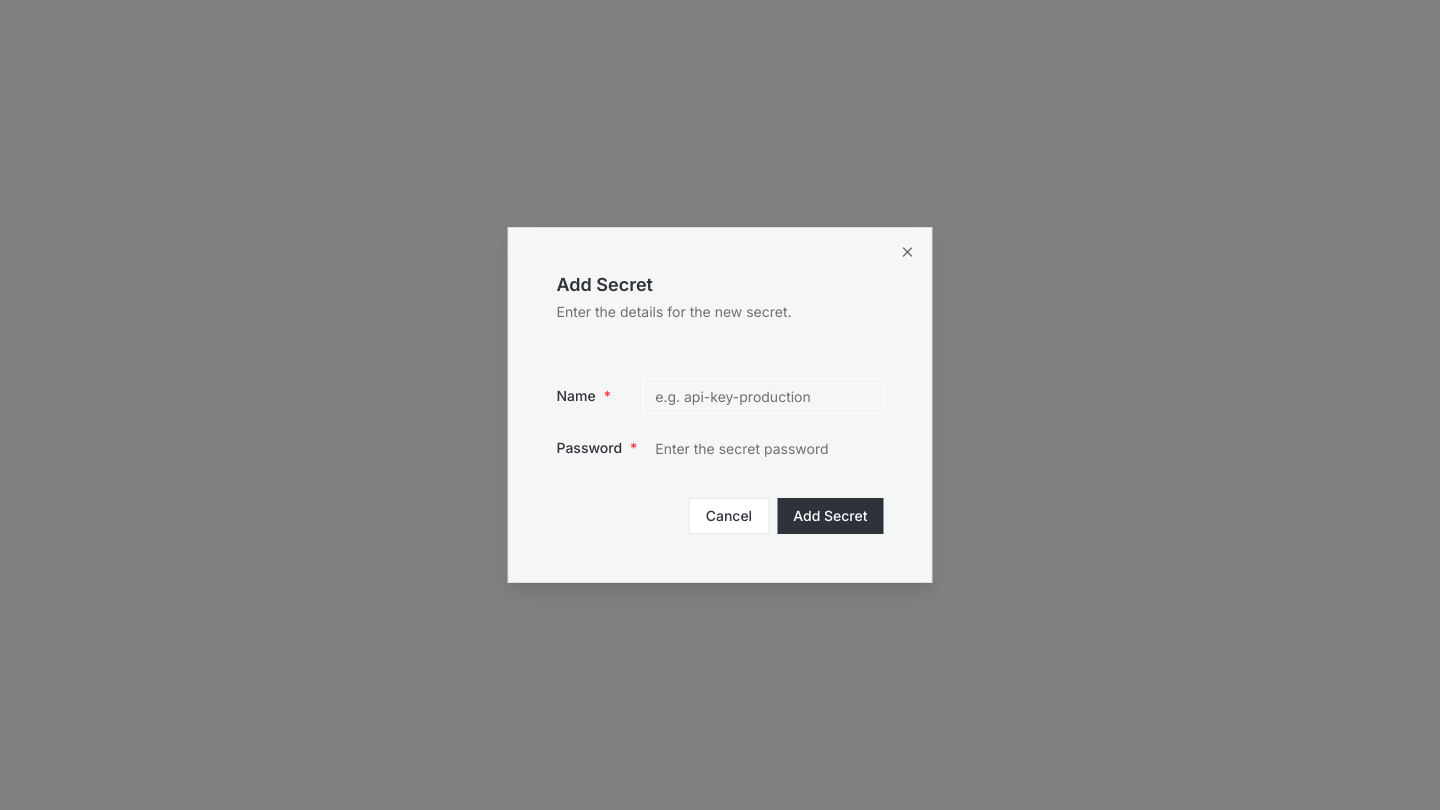
it: SecretEditor › validation › should show error when name is empty on submit
Type "secret123" into the password field with placeholder "Enter the secret password" at (763, 448), box [642, 430, 884, 466]
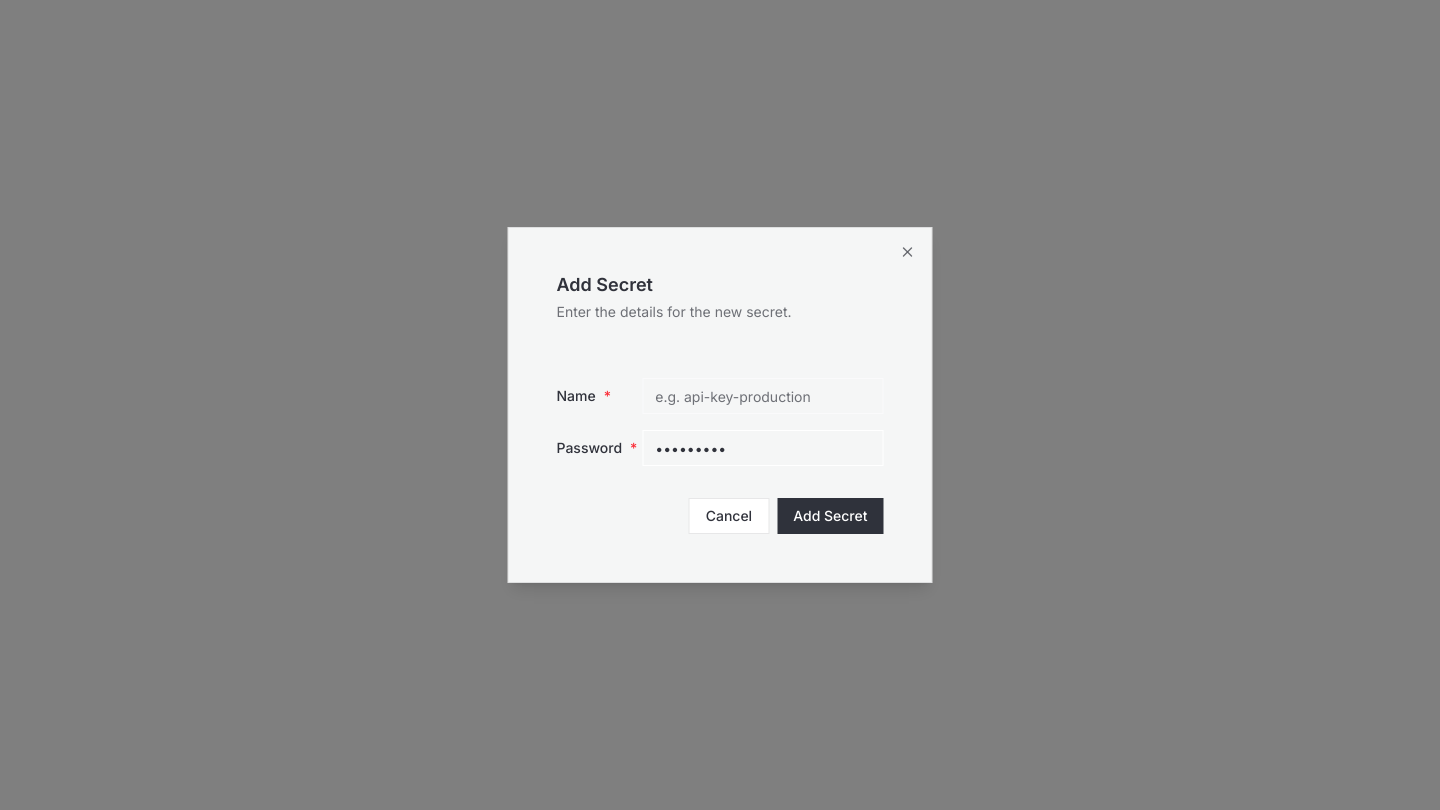
Click the button "Add Secret" at (830, 516), box [777, 498, 884, 534]
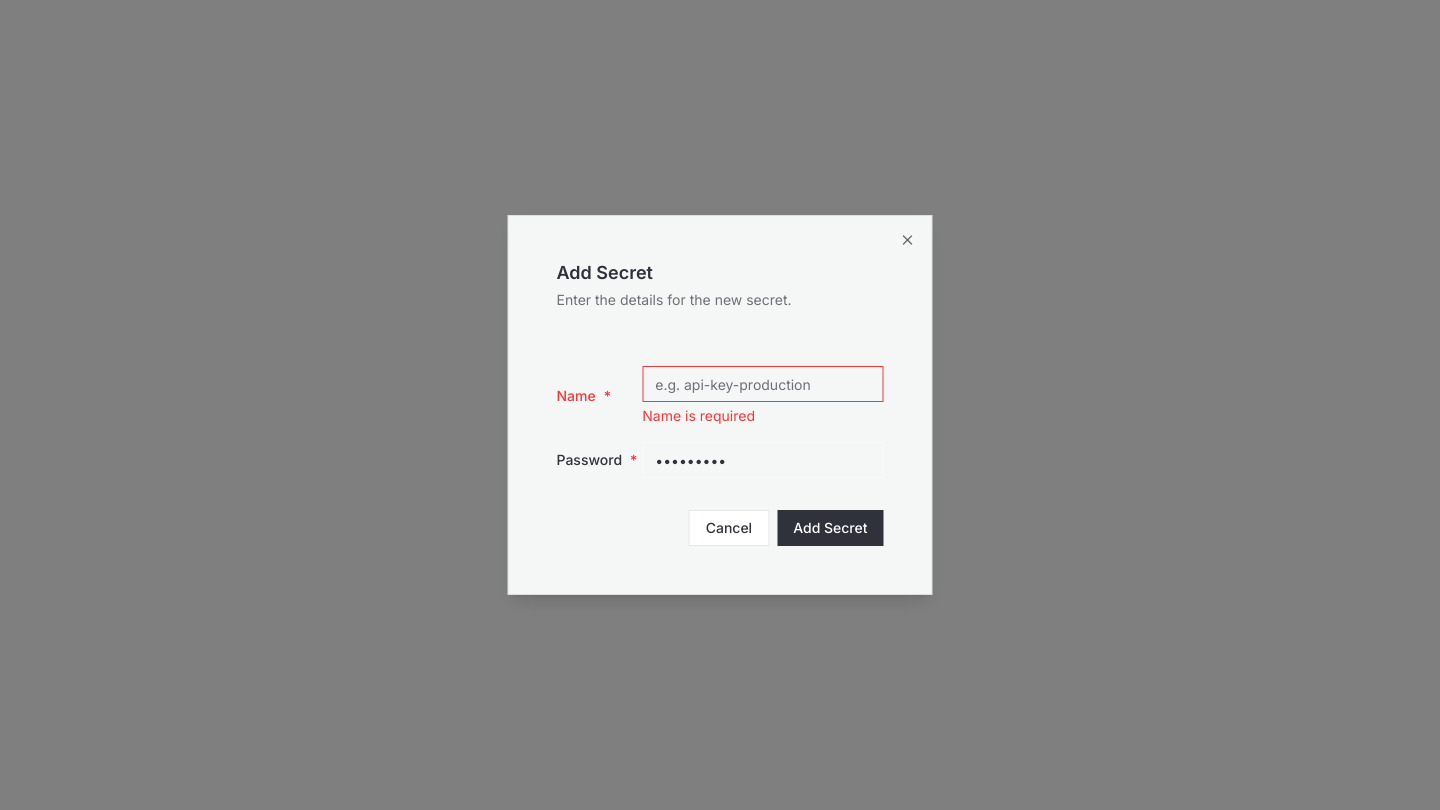
Expected: the text "Name is required" is shown, [642, 407, 755, 424]
